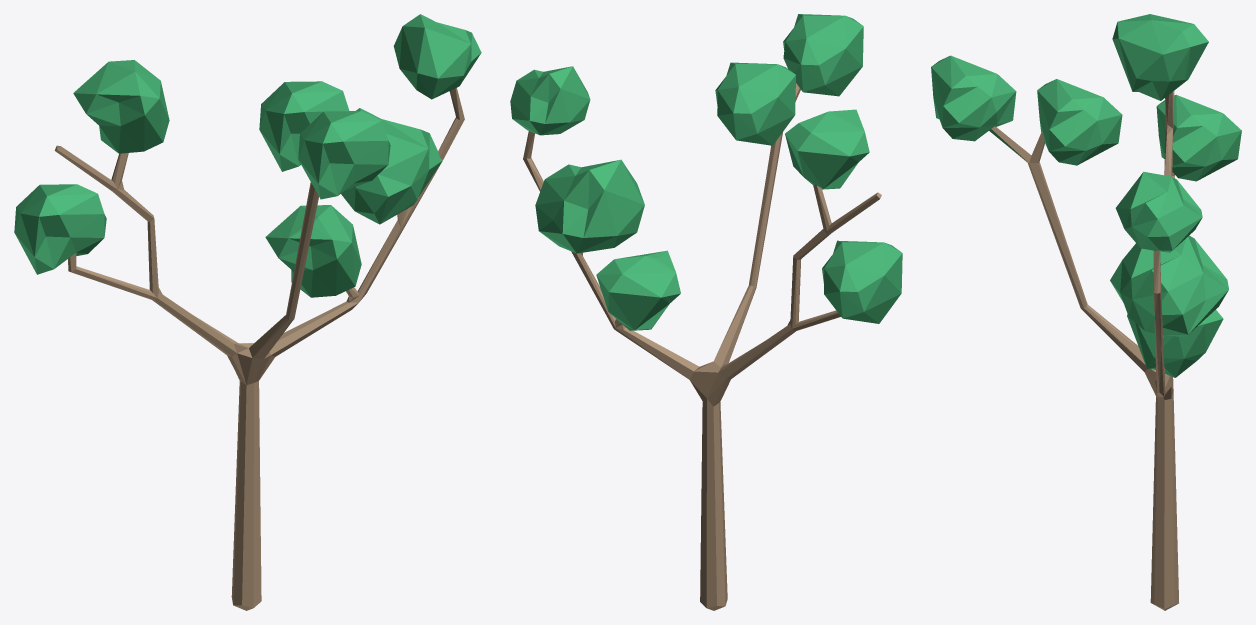
Rendered from tree47.fbx.
3 views of the same model, side by side, from view 1: azimuth 30°, elevation 25°; view 2: azimuth 150°, elevation 25°; view 3: azimuth 270°, elevation 25° (orthographic). The views are drawn at different scales.
Visible parts, largest first — view 1: treetype47; view 2: treetype47; view 3: treetype47.
Boxes of the visible parts, bbox=[...] form: treetype47: bbox=[14, 14, 481, 610]; treetype47: bbox=[510, 14, 902, 610]; treetype47: bbox=[931, 14, 1241, 610].
Size of the model in its own units: 193 by 245 by 128.
